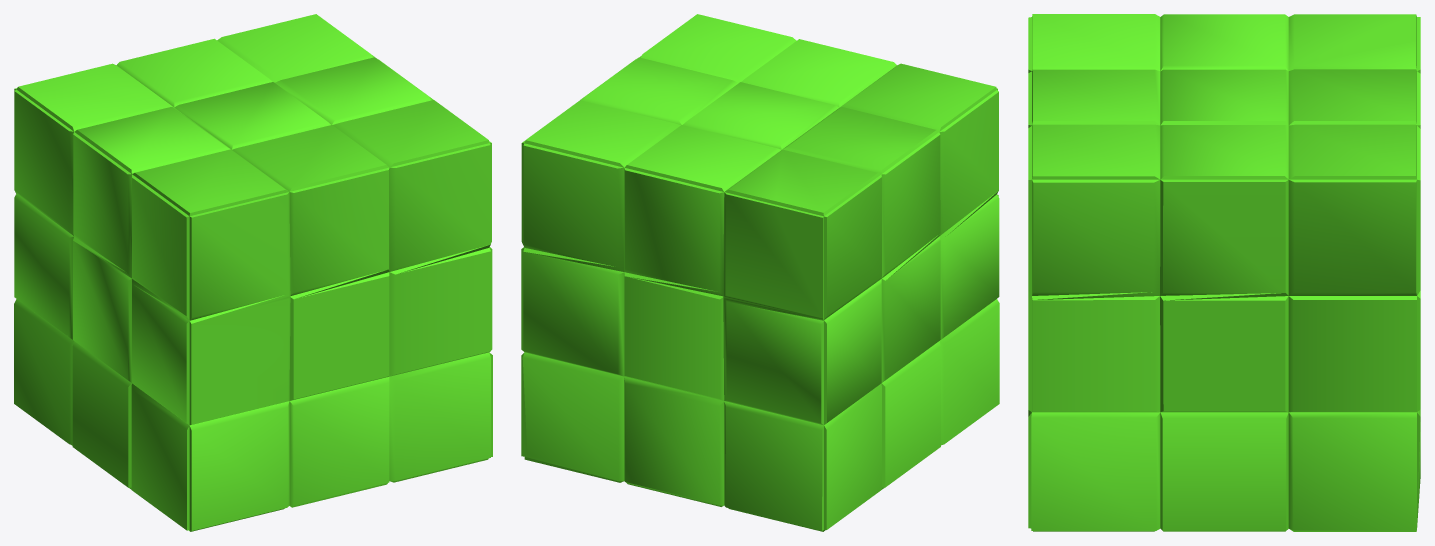
3 renders of one model, left to right at view 1: azimuth 30°, elevation 25°; view 2: azimuth 150°, elevation 25°; view 3: azimuth 270°, elevation 25°, orthographic. The views are drawn at different scales.
Parts seen in each view (by area): view 1: Object_2; view 2: Object_2; view 3: Object_2.
Boxes of the visible parts, box(x1,y1,x2,y2) form: Object_2: box(14, 14, 492, 531); Object_2: box(521, 14, 999, 531); Object_2: box(1028, 14, 1420, 531).
Size of the model in its own units: 1 by 1 by 1.
